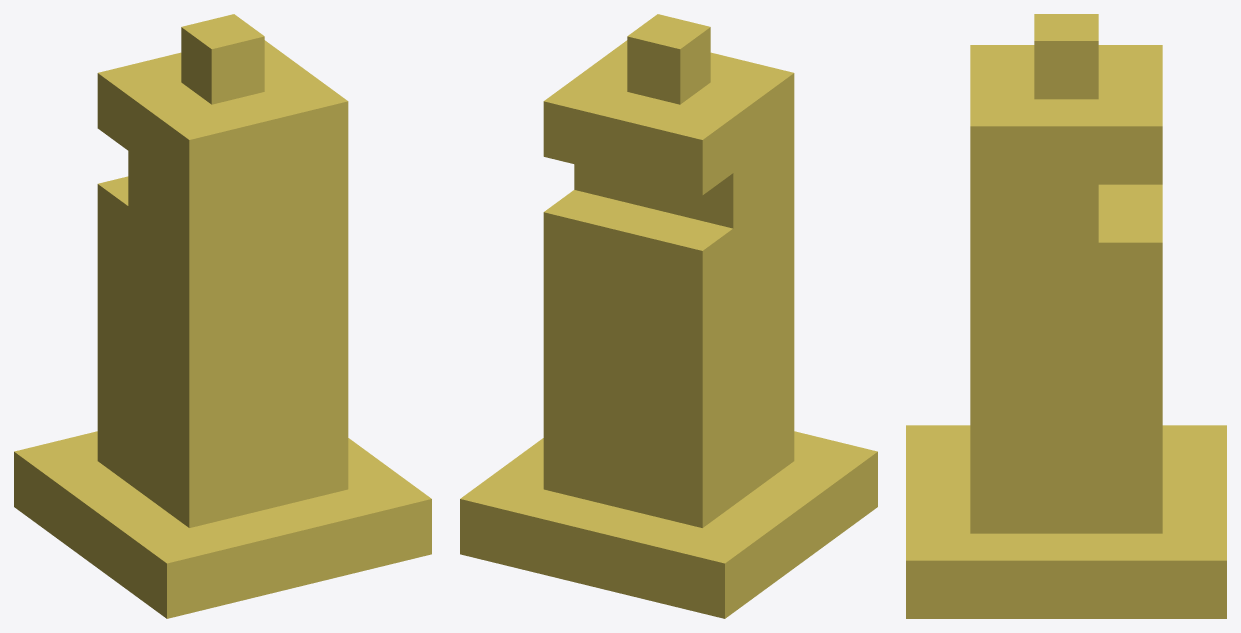
File: bishop-b.glb
The picture shows the model from 3 angles, left to right: view 1: azimuth 30°, elevation 25°; view 2: azimuth 150°, elevation 25°; view 3: azimuth 270°, elevation 25°; orthographic projection. The views are drawn at different scales.
Visible parts, largest first — view 1: root; view 2: root; view 3: root.
Part boxes in pixels (left/top/right/bottom): root: left=14, top=14, right=431, bottom=618; root: left=460, top=14, right=877, bottom=618; root: left=906, top=14, right=1226, bottom=618.
Size of the model in its own units: 0.7143 by 1.29 by 0.7143.
Materials: 1 (1 with a texture image).
